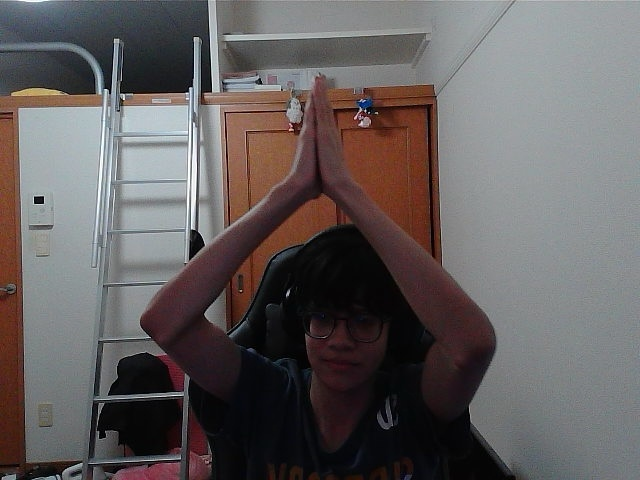pray: (312, 83, 329, 182)
